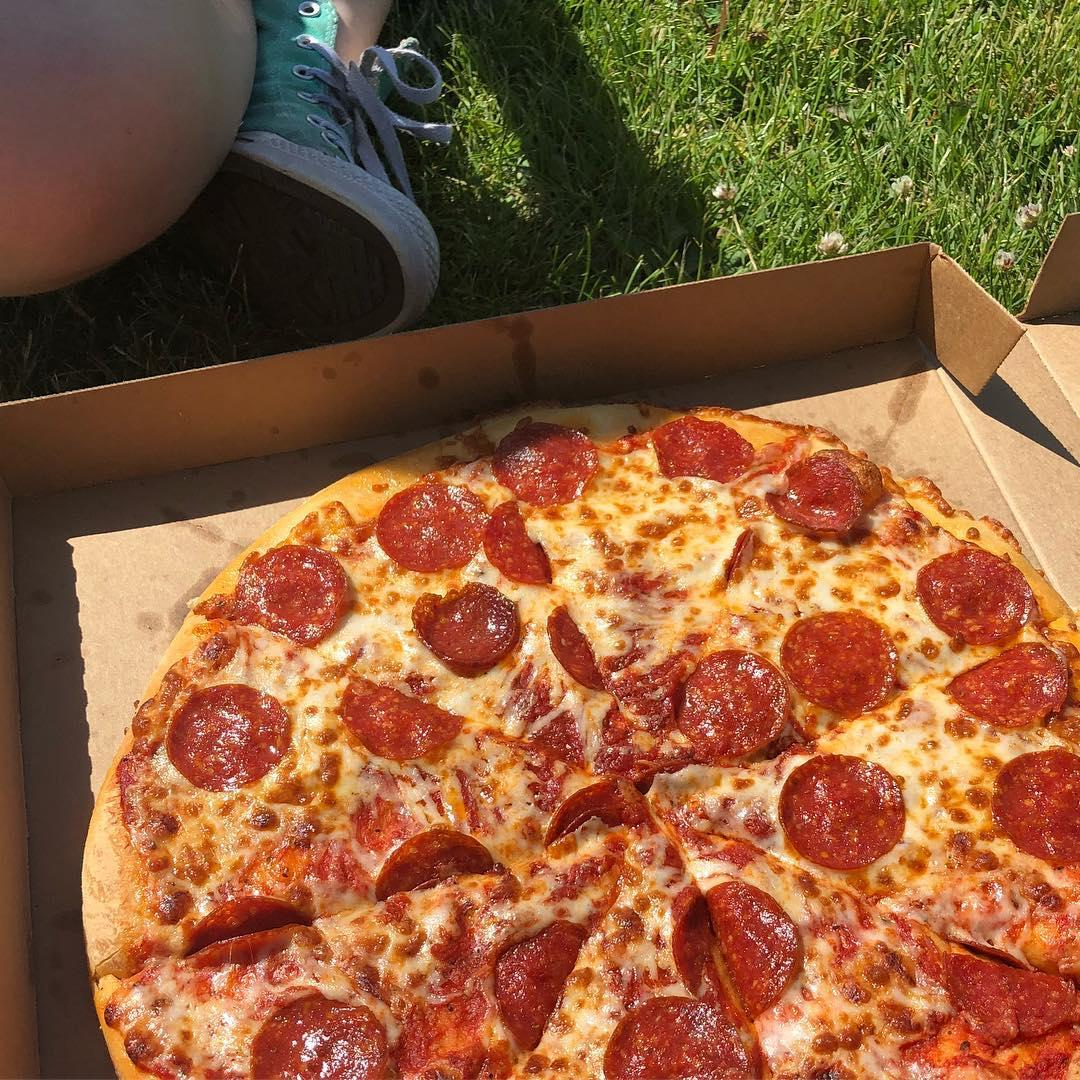Cheese: (553, 499, 721, 592), (913, 737, 988, 896)
Pepperoni: (669, 881, 804, 1020), (517, 709, 654, 833), (161, 679, 293, 798), (789, 749, 905, 876), (239, 989, 398, 1076), (601, 999, 770, 1080), (235, 537, 353, 652), (489, 917, 589, 1044), (785, 615, 900, 724), (683, 651, 790, 765), (939, 951, 1080, 1037), (369, 475, 488, 573), (995, 745, 1080, 869), (941, 637, 1064, 722), (915, 545, 1029, 636), (341, 673, 454, 764), (413, 579, 520, 668), (761, 451, 865, 541), (641, 413, 758, 489), (181, 897, 313, 963), (377, 829, 502, 896), (495, 421, 596, 500), (613, 647, 689, 732), (483, 495, 554, 580), (543, 597, 602, 690), (707, 527, 765, 586)
Pizza: (81, 401, 1080, 1080)
